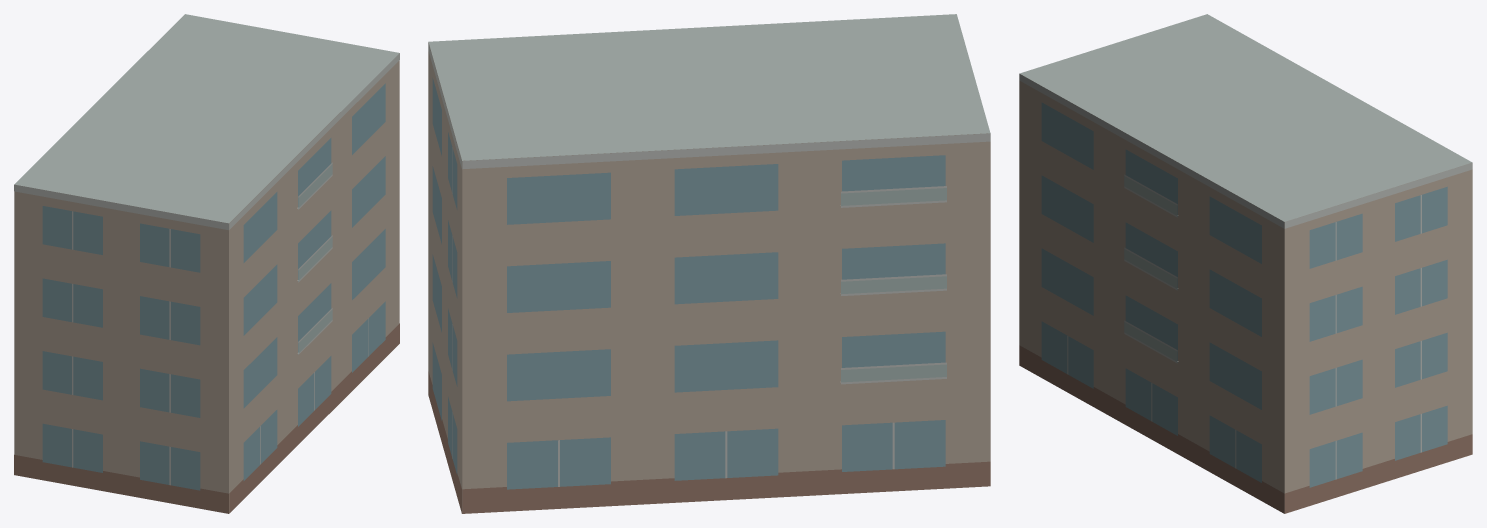
Rendered from survey-upis-32728466.glb.
The picture shows the model from 3 angles, left to right: view 1: azimuth 30°, elevation 25°; view 2: azimuth 150°, elevation 25°; view 3: azimuth 270°, elevation 25°; orthographic projection. The views are drawn at different scales.
Visible parts, largest first — view 1: survey-upis-32728466.tmp; view 2: survey-upis-32728466.tmp; view 3: survey-upis-32728466.tmp.
Boxes of the visible parts, bbox=[...] form: survey-upis-32728466.tmp: bbox=[14, 14, 399, 513]; survey-upis-32728466.tmp: bbox=[428, 14, 990, 513]; survey-upis-32728466.tmp: bbox=[1019, 14, 1472, 513].
Bounding box in the file's own units: 15.75 × 10.3 × 14.5.
